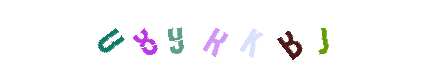8: (106, 0, 186, 80)
9: (151, 0, 231, 80)
B: (250, 0, 330, 80)
J: (284, 0, 364, 80)
K: (178, 0, 258, 80)
O: (69, 0, 149, 80)
R: (170, 0, 250, 80)
